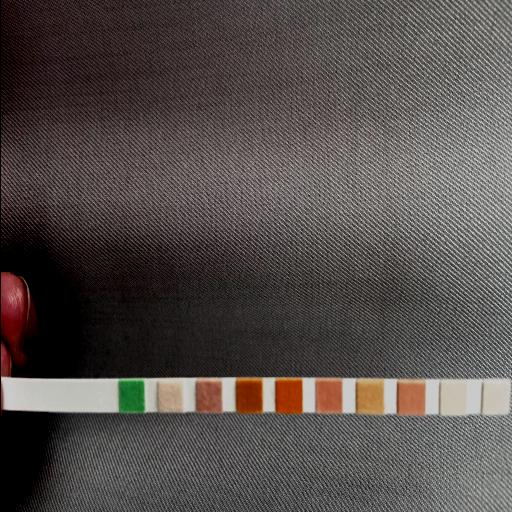Bilirubin: (158, 382, 182, 410)
Blood: (275, 382, 300, 412)
Glucose: (118, 382, 144, 412)
Ketone: (196, 382, 220, 411)
Leukocytes: (483, 383, 507, 413)
Nitrite: (440, 386, 464, 414)
Protein: (357, 382, 382, 412)
SpGravity: (237, 382, 261, 411)
Urobilinogen: (398, 383, 424, 414)
pH: (316, 381, 340, 411)
strip: (8, 377, 508, 414)
